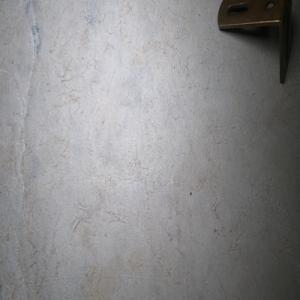MetalPart: (216, 0, 293, 85)
